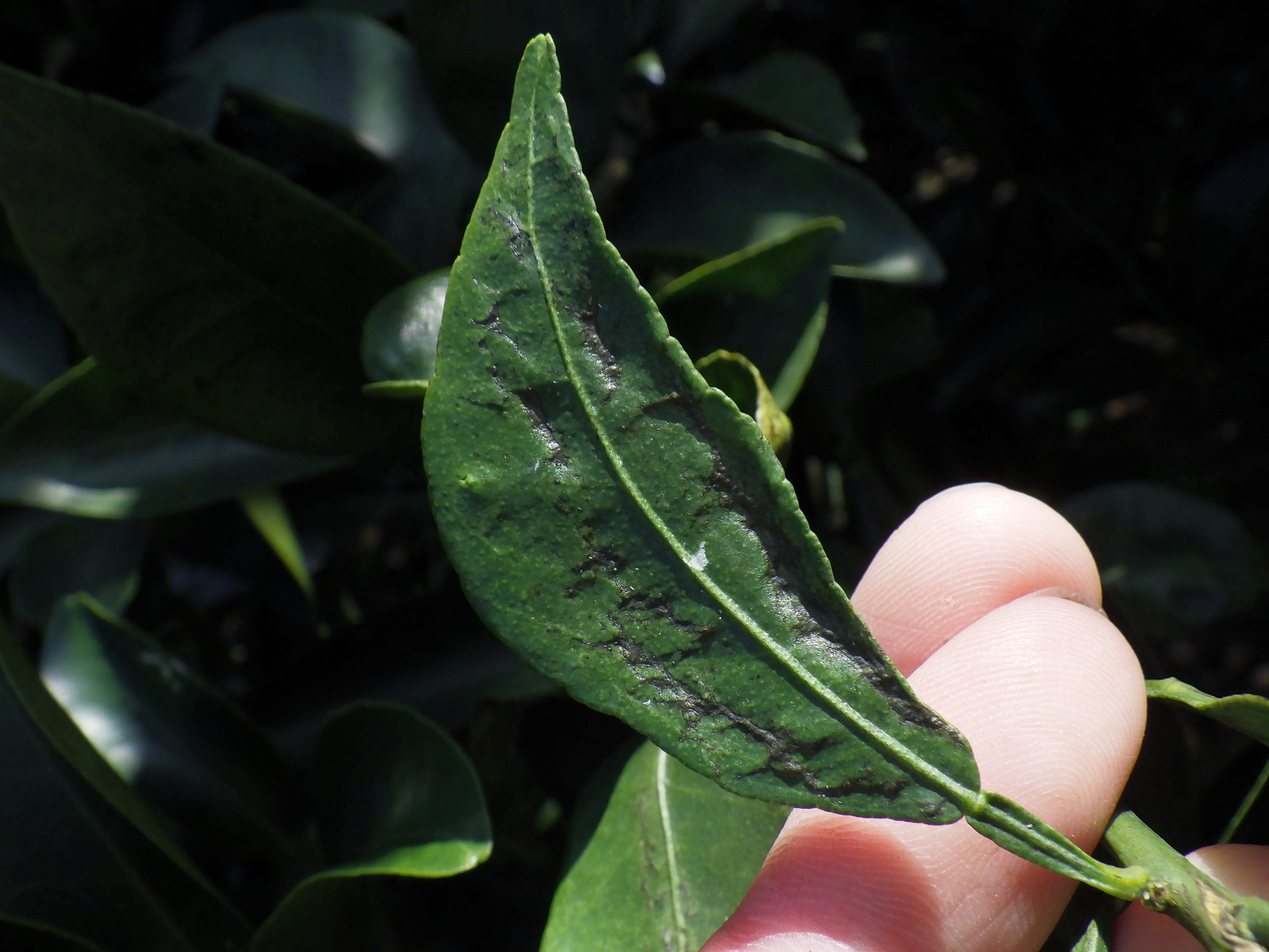Thrips_Damage: (550, 475, 851, 804), (469, 290, 637, 440)
